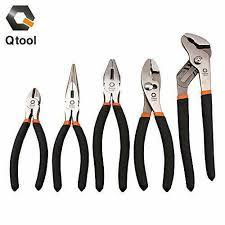pliers: (175, 32, 215, 192), (132, 57, 175, 192), (91, 58, 130, 192), (51, 63, 88, 192), (9, 86, 48, 190)
